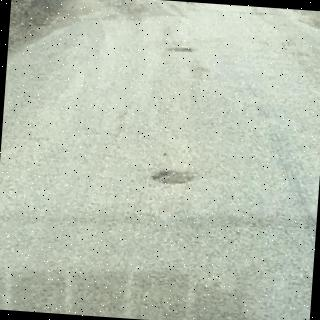pothole: (151, 168, 199, 185), (166, 45, 192, 55)
